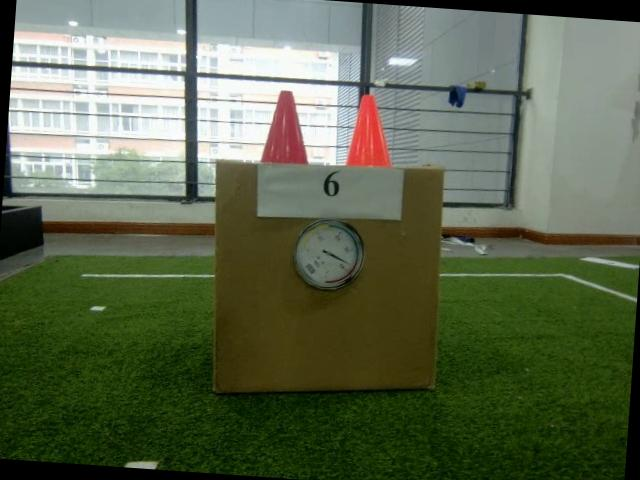6: (319, 167, 344, 199)
Dashboard: (289, 216, 366, 296)
orange_barrel: (343, 91, 397, 168)
red_barrel: (258, 88, 315, 165)
ssi: (304, 262, 316, 276)
